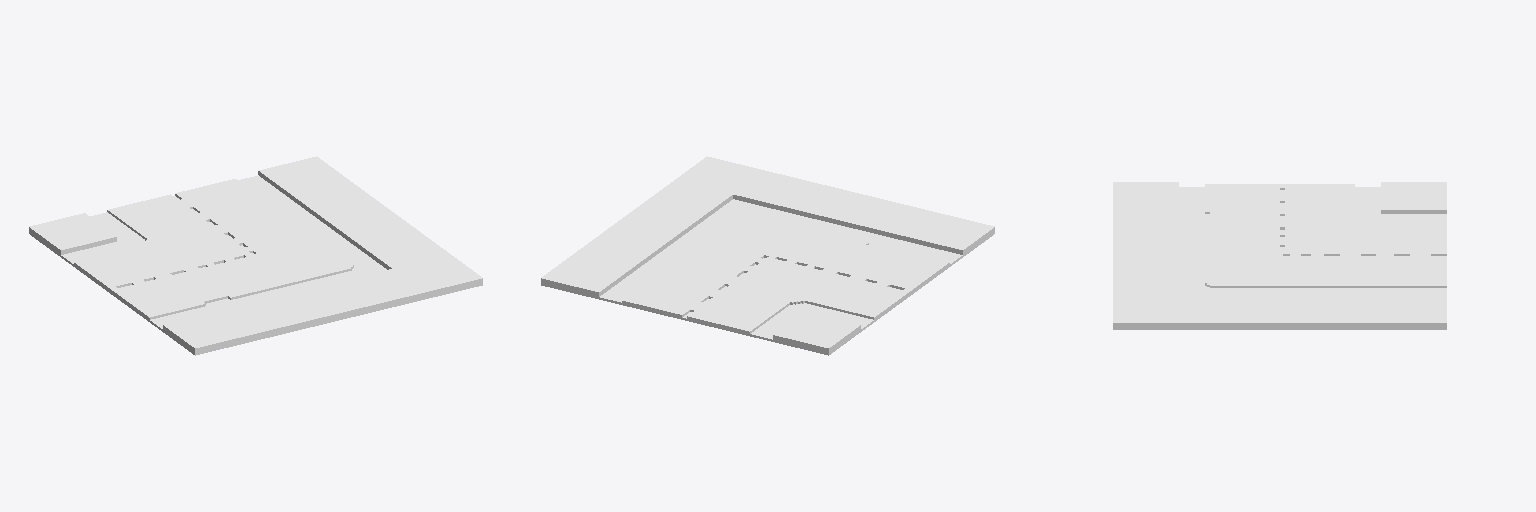
File: GDS2_Flooring-0.obj
3 renders of one model, left to right at view 1: azimuth 30°, elevation 25°; view 2: azimuth 150°, elevation 25°; view 3: azimuth 270°, elevation 25°, orthographic.
Parts seen in each view (by area): view 1: GDS2_Flooring-0; view 2: GDS2_Flooring-0; view 3: GDS2_Flooring-0.
Boxes of the visible parts, <box> form: GDS2_Flooring-0: <box>29,156,482,355</box>; GDS2_Flooring-0: <box>541,156,994,355</box>; GDS2_Flooring-0: <box>1113,182,1446,329</box>.
Bounding box in the file's own units: 12.8 × 0.3 × 12.8.